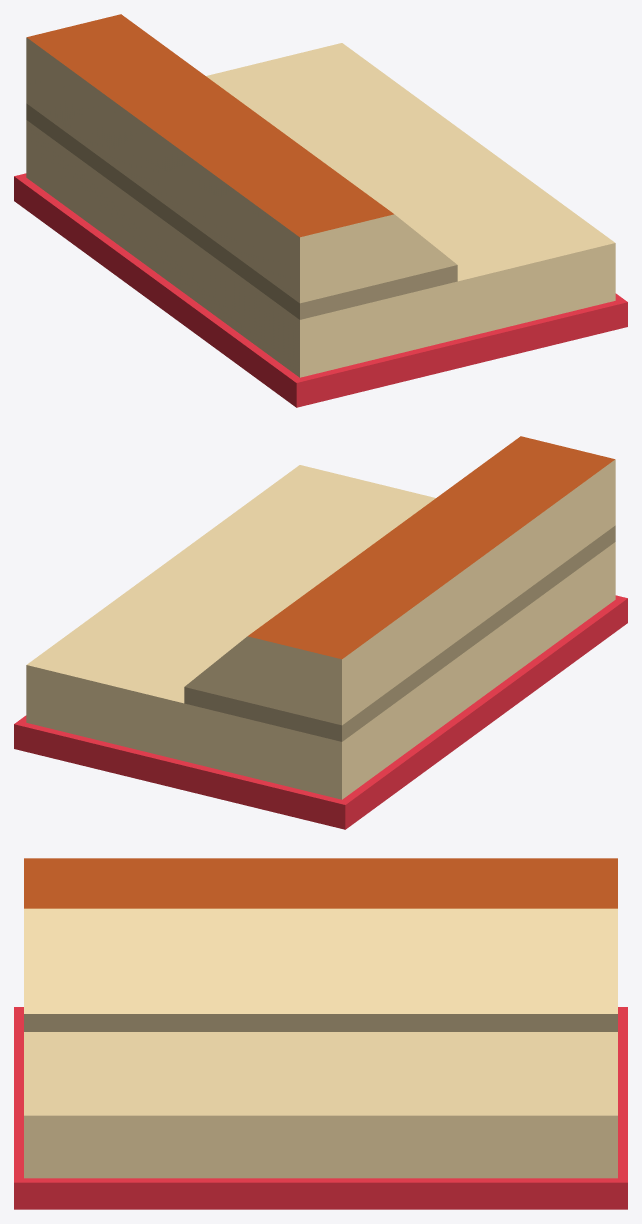
File: Market_Stand_2.fbx
3 renders of one model, top to bottom at view 1: azimuth 30°, elevation 25°; view 2: azimuth 150°, elevation 25°; view 3: azimuth 270°, elevation 25°, orthographic. The views are drawn at different scales.
Parts seen in each view (by area): view 1: Market_Stand_2; view 2: Market_Stand_2; view 3: Market_Stand_2.
Part boxes in pixels (x1=…): Market_Stand_2: x1=14, y1=14, x2=627, y2=407; Market_Stand_2: x1=14, y1=436, x2=627, y2=829; Market_Stand_2: x1=14, y1=858, x2=627, y2=1209.
Size of the model in its own units: 105 by 50 by 155.
